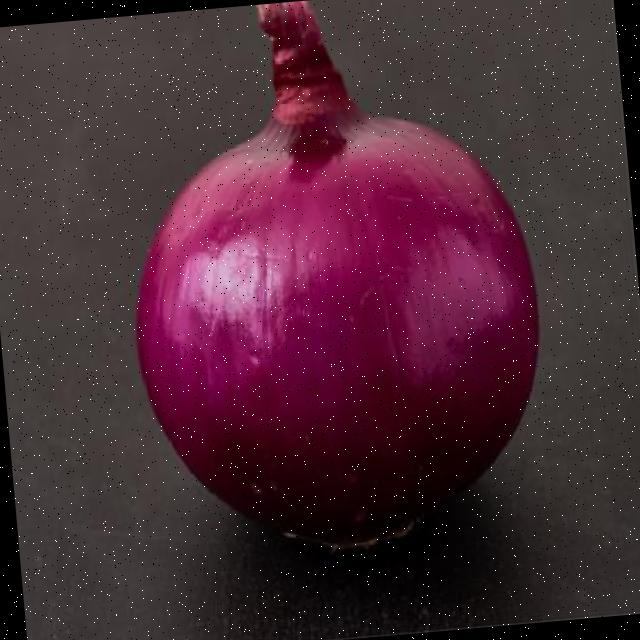Onion: (140, 1, 539, 547)
